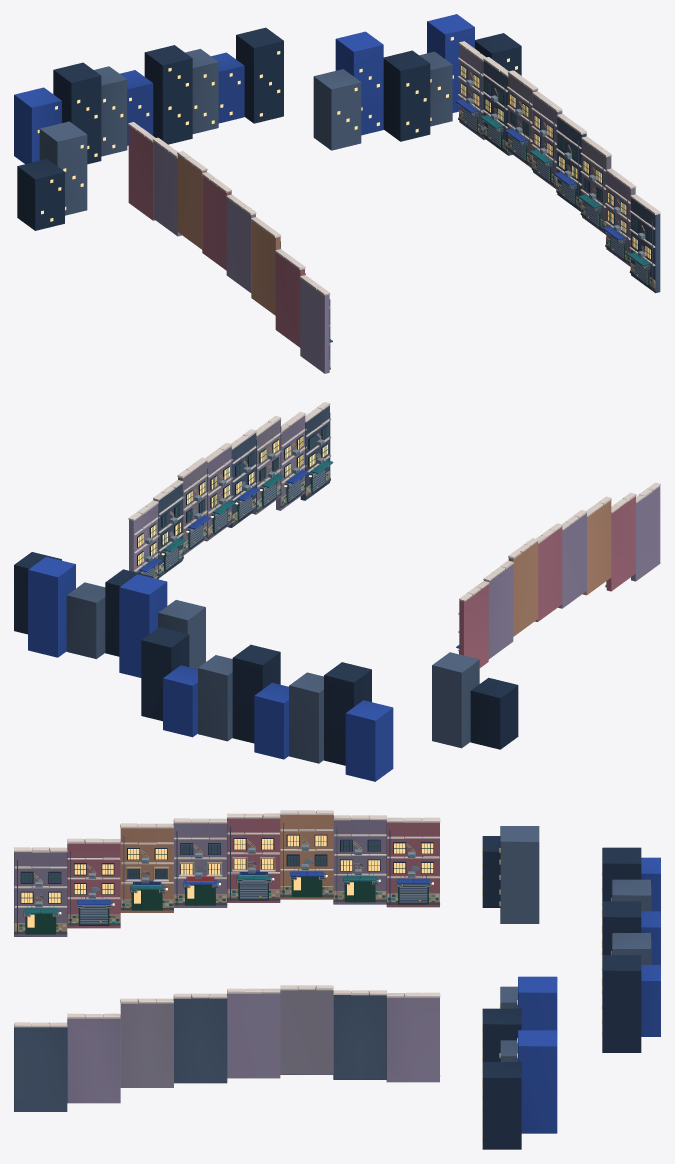
File: district.glb
The picture shows the model from 3 angles, top to bottom: view 1: azimuth 30°, elevation 25°; view 2: azimuth 150°, elevation 25°; view 3: azimuth 270°, elevation 25°; orthographic projection. The views are drawn at different scales.
Visible parts, largest first — view 1: district; view 2: district; view 3: district.
Part boxes in pixels (x1=…): district: x1=14, y1=14, x2=660, y2=373; district: x1=14, y1=402, x2=660, y2=781; district: x1=14, y1=810, x2=660, y2=1149.
Bounding box in the file's own units: 68.75 × 15.43 × 72.92.
